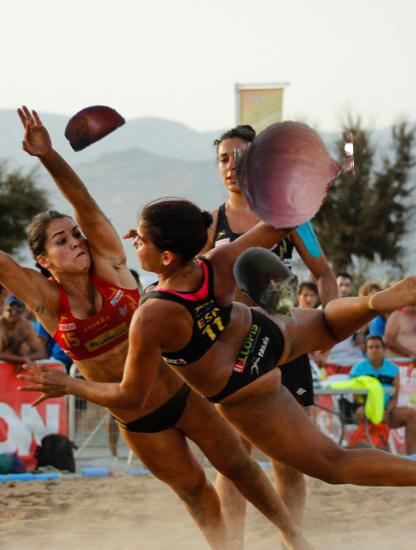Chestnut: (63, 94, 123, 154)
Eggplant: (228, 241, 312, 325)
Onion: (235, 114, 355, 234)
